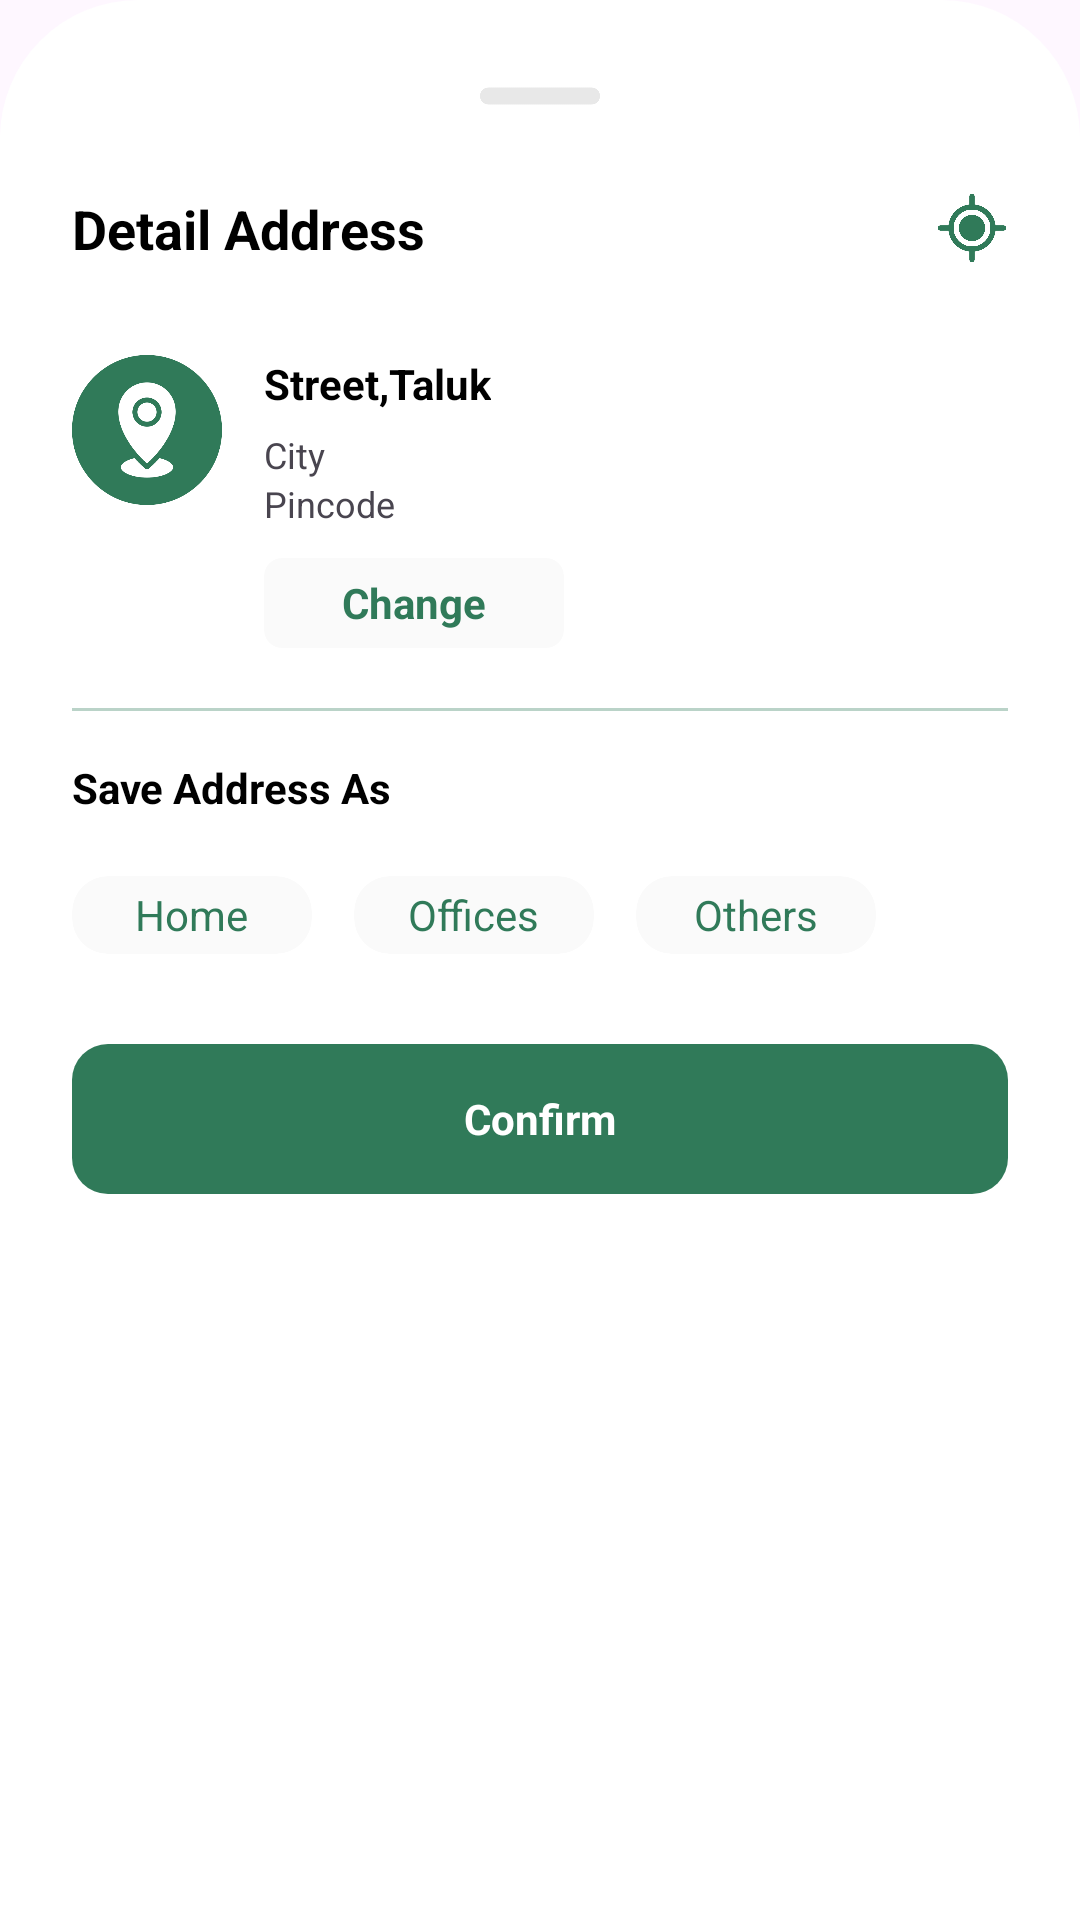

Icon click points for this 1080w x 1920h phone screenshot, format (x=x, y=y):
loca: (x=147, y=430)
location: (x=972, y=228)
